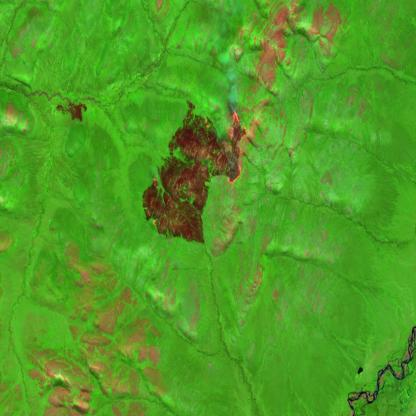fire: (220, 104, 252, 190)
